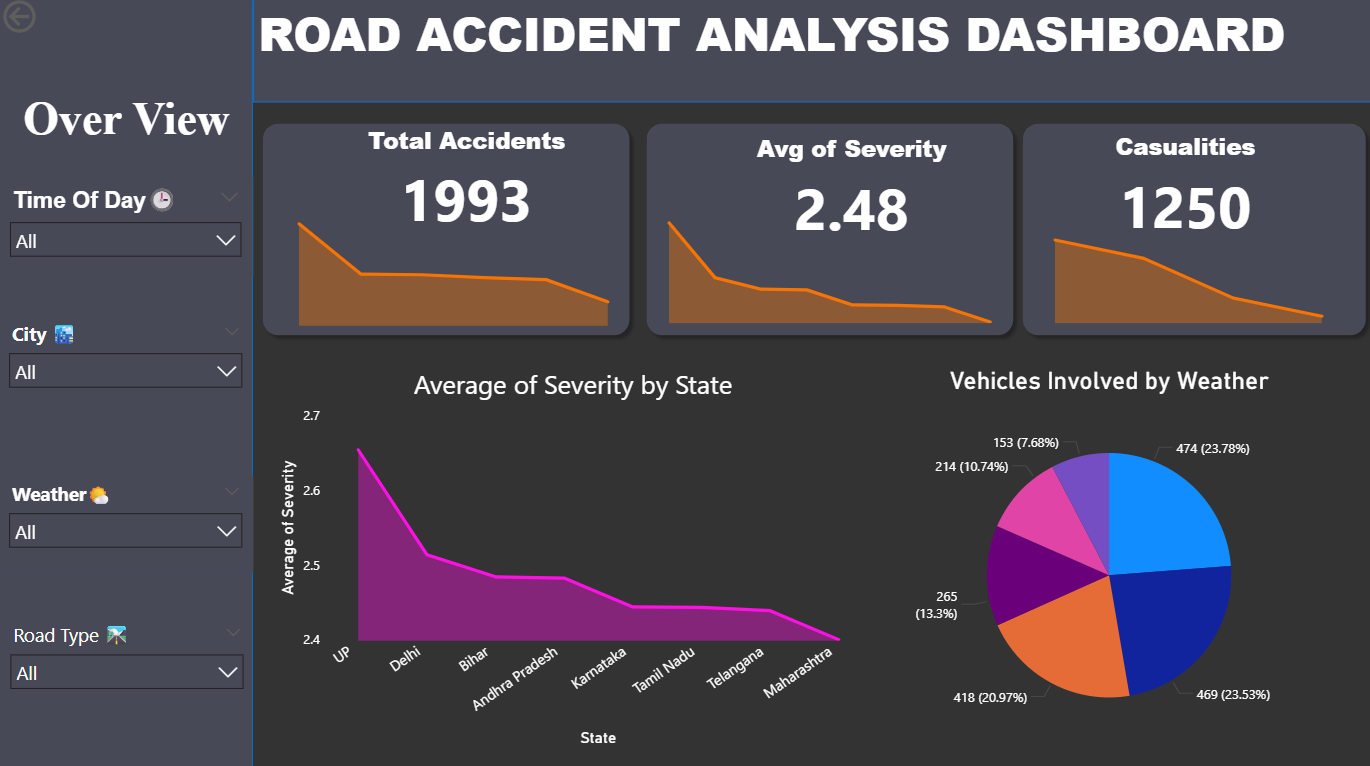

This screenshot's page, from the dashboard's own definition file:
{"tool":"powerbi","page":{"name":"State and Weather Analysis","canvas":[1280,720],"ordinal":0},"visuals":[{"type":"shape","box":[0,0,237.2,720.9],"z":0},{"type":"slicer","fields":{"Values":["cleaned_accidents.Weather"]},"box":[0,447.7,237.2,89.5],"z":1000},{"type":"slicer","fields":{"Values":["cleaned_accidents.Road_Type"]},"box":[1.2,579.1,237.2,83.7],"z":2000},{"type":"slicer","fields":{"Values":["cleaned_accidents.City"]},"box":[0,298.8,237.2,93],"z":3000},{"type":"actionButton","box":[0,0,100,40],"z":4000},{"type":"slicer","fields":{"Values":["cleaned_accidents.Time_Period"]},"box":[0,169.8,237.2,91.9],"z":5000},{"type":"textbox","box":[6.9,85.1,225,70],"z":6000},{"type":"areaChart","fields":{"Category":["cleaned_accidents.State"],"Y":["Avg(cleaned_accidents.Severity)"]},"box":[257,345.3,555.8,359.3],"z":7000},{"type":"pieChart","title":" Vehicles Involved by Weather","fields":{"Category":["cleaned_accidents.Weather"],"Y":["Sum(cleaned_accidents.Vehicles_Involved)"]},"box":[831.4,345.3,404.7,362.8],"z":8000},{"type":"shape","box":[237.2,0,1043,100],"z":9000},{"type":"textbox","box":[237.2,0,1043,100],"z":10000},{"type":"shape","box":[238.4,111.6,357,212.8],"z":11000},{"type":"card","title":"Total Accidents","fields":{"Values":["Sum(cleaned_accidents.Vehicles_Involved)"]},"box":[296.5,119.8,279.1,107],"z":12000},{"type":"lineChart","fields":{"Y":["Sum(cleaned_accidents.Vehicles_Involved)"],"Category":["cleaned_accidents.Road_Type"]},"box":[252.3,173.3,343,140.7],"z":13000},{"type":"shape","box":[595.4,111.6,357,212.8],"z":14000},{"type":"card","title":"Avg of Severity","fields":{"Values":["Avg(cleaned_accidents.Severity)"]},"box":[654.7,127.9,279.1,107],"z":15000},{"type":"stackedAreaChart","fields":{"Category":["cleaned_accidents.State"],"Y":["Avg(cleaned_accidents.Severity)"]},"box":[602.3,181.4,343,129.1],"z":16000},{"type":"shape","box":[945.4,111.6,334.9,212.8],"z":17000},{"type":"card","title":"Casualities","fields":{"Values":["CountNonNull(cleaned_accidents.Casualties)"]},"box":[965.1,125.6,279.1,107],"z":18000},{"type":"areaChart","fields":{"Category":["cleaned_accidents.Time_Period"],"Y":["CountNonNull(cleaned_accidents.Casualties)"]},"box":[945.4,181.4,324.4,129.1],"z":19000}]}

Visuals, with their boxes in screenshot pixels (x1, y1, x2, y2), scaled from the page's 1280x720 canvas onto the 1370x766 screenshot:
shape: <bbox>0, 0, 254, 765</bbox>
slicer - cleaned_accidents.Weather: <bbox>0, 476, 254, 572</bbox>
slicer - cleaned_accidents.Road_Type: <bbox>1, 616, 255, 705</bbox>
slicer - cleaned_accidents.City: <bbox>0, 318, 254, 417</bbox>
actionButton: <bbox>0, 0, 107, 43</bbox>
slicer - cleaned_accidents.Time_Period: <bbox>0, 181, 254, 278</bbox>
textbox: <bbox>7, 91, 248, 165</bbox>
areaChart - cleaned_accidents.State x Avg(cleaned_accidents.Severity): <bbox>275, 367, 870, 750</bbox>
" Vehicles Involved by Weather" pieChart: <bbox>890, 367, 1323, 753</bbox>
shape: <bbox>254, 0, 1369, 106</bbox>
textbox: <bbox>254, 0, 1369, 106</bbox>
shape: <bbox>255, 119, 637, 345</bbox>
"Total Accidents" card: <bbox>317, 127, 616, 241</bbox>
lineChart - Sum(cleaned_accidents.Vehicles_Involved) x cleaned_accidents.Road_Type: <bbox>270, 184, 637, 334</bbox>
shape: <bbox>637, 119, 1019, 345</bbox>
"Avg of Severity" card: <bbox>701, 136, 999, 250</bbox>
stackedAreaChart - cleaned_accidents.State x Avg(cleaned_accidents.Severity): <bbox>645, 193, 1012, 330</bbox>
shape: <bbox>1012, 119, 1369, 345</bbox>
"Casualities" card: <bbox>1033, 134, 1332, 247</bbox>
areaChart - cleaned_accidents.Time_Period x CountNonNull(cleaned_accidents.Casualties): <bbox>1012, 193, 1359, 330</bbox>
